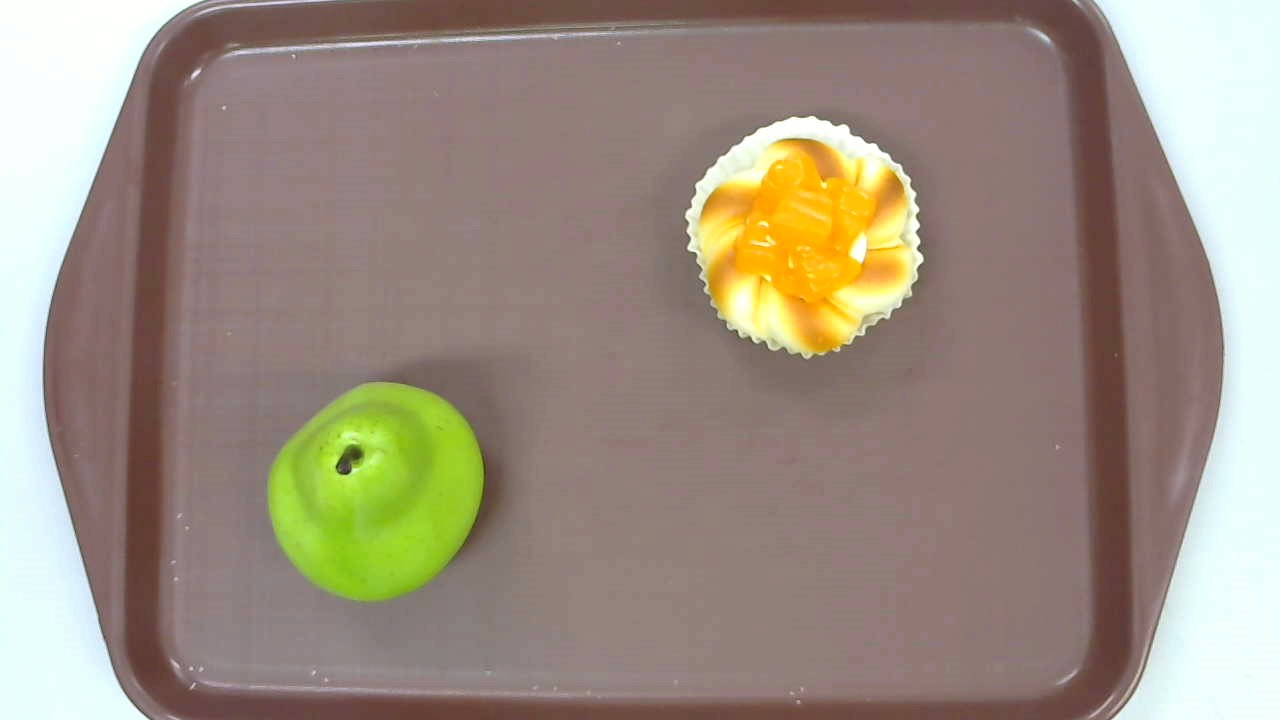green pear: (264, 379, 483, 600)
mango tart: (684, 115, 924, 361)
